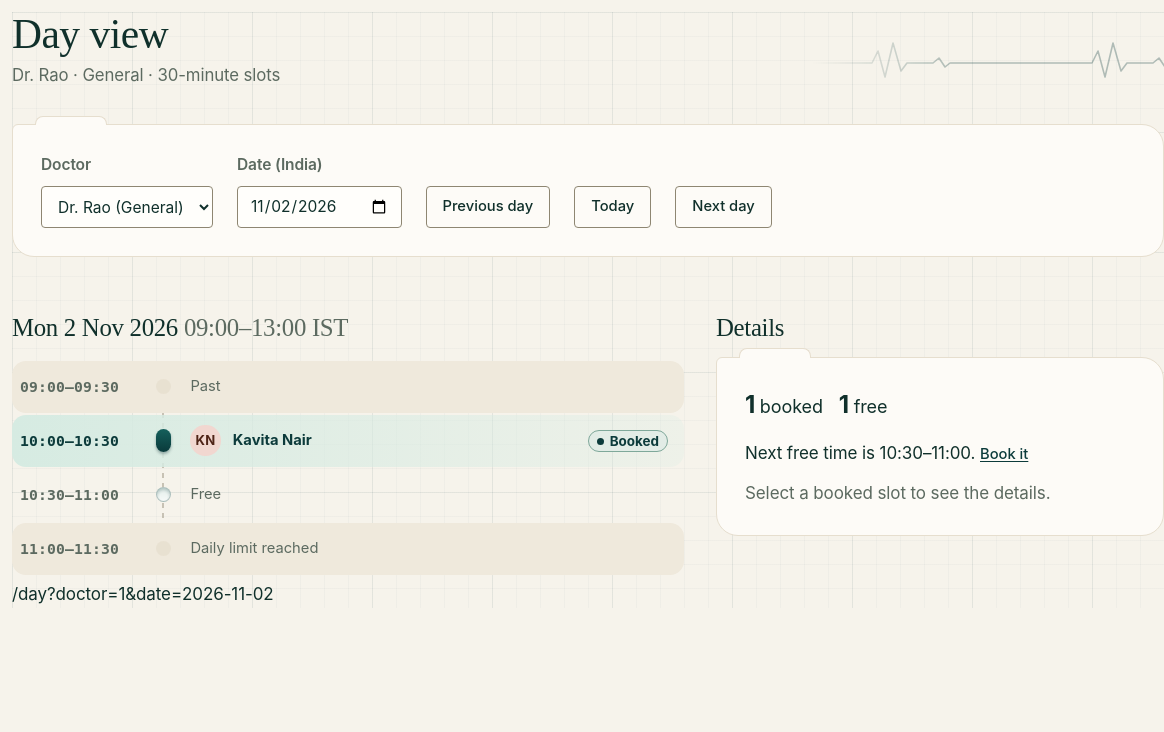
Test: day view › moves to the next day and back through the address
Check: the text "Kavita Nair" is shown, box [233,431,312,449]
Click the button "Next day".
click(724, 207)  # box [675,186,772,228]
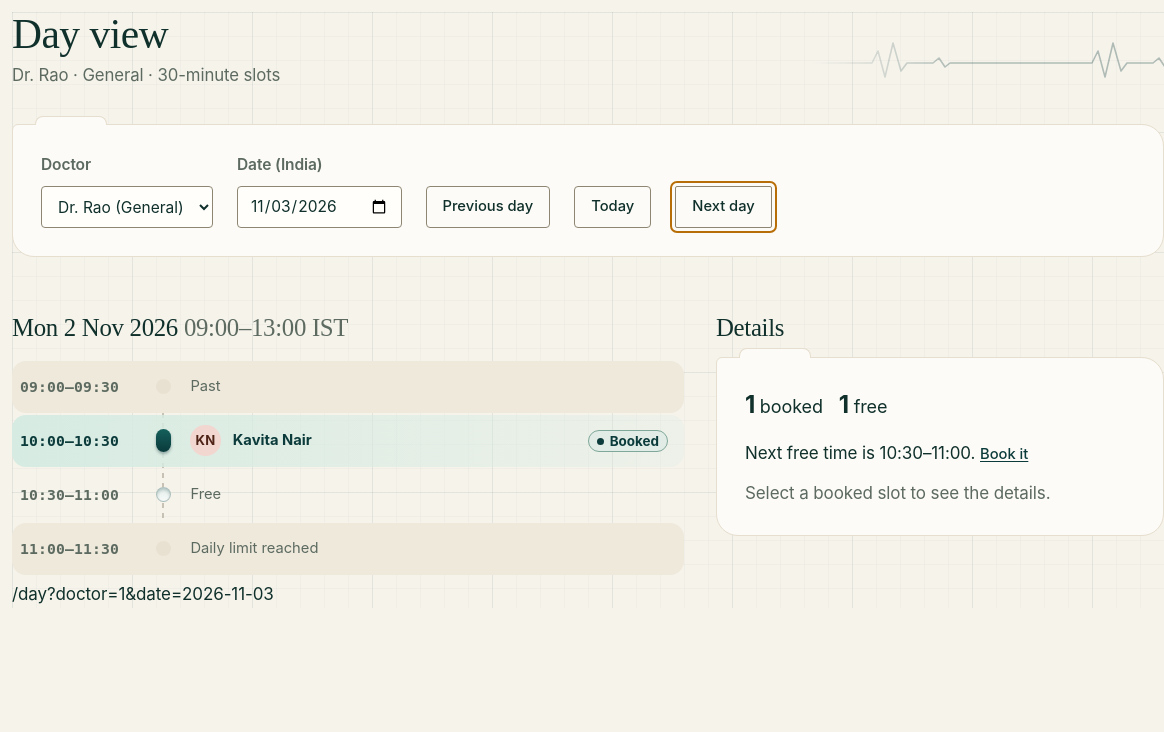
Check: the text with test id "where" shows "date=2026-11-03", box [12,584,274,604]
